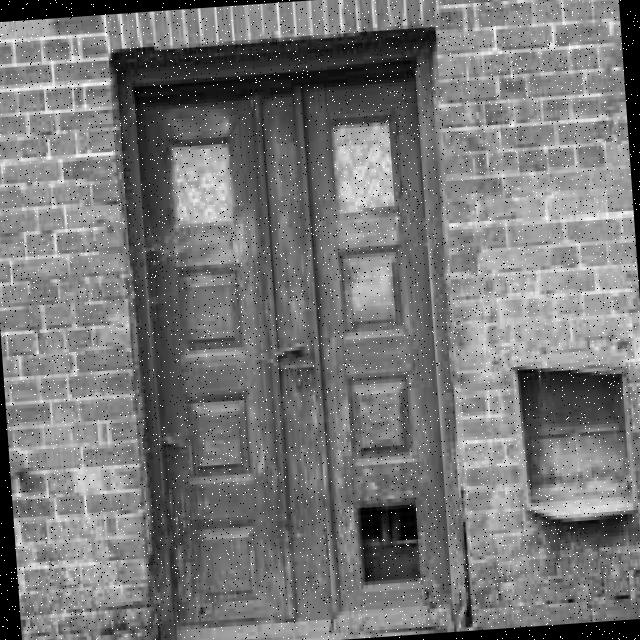Door: (118, 27, 479, 640)
